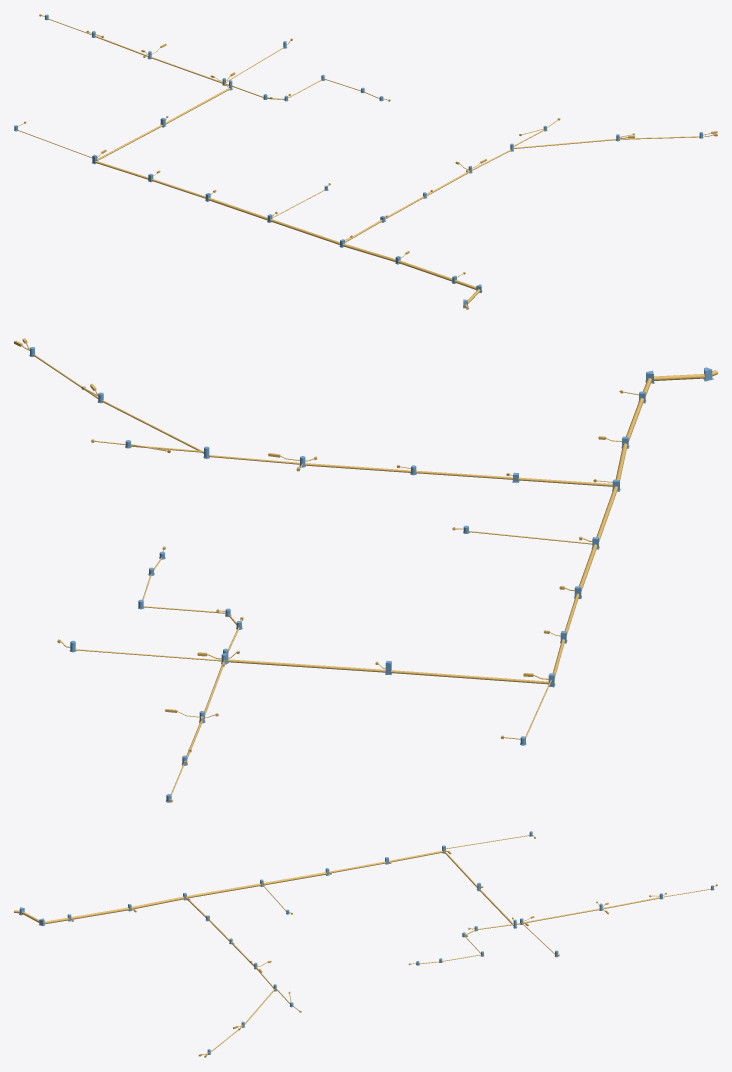
The model's file is 500125-CSSP001-780-XX-MD-ST-000092.glb.
The picture shows the model from 3 angles, top to bottom: view 1: azimuth 30°, elevation 25°; view 2: azimuth 150°, elevation 25°; view 3: azimuth 270°, elevation 25°; orthographic projection. The views are drawn at different scales.
Bounding box in the file's own units: 349 × 10.76 × 458.
